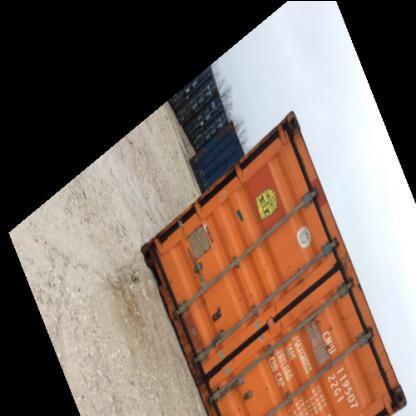Damage: (276, 306, 326, 340), (187, 220, 220, 262), (278, 272, 310, 300), (275, 114, 301, 148), (208, 298, 228, 333), (388, 382, 408, 412)
